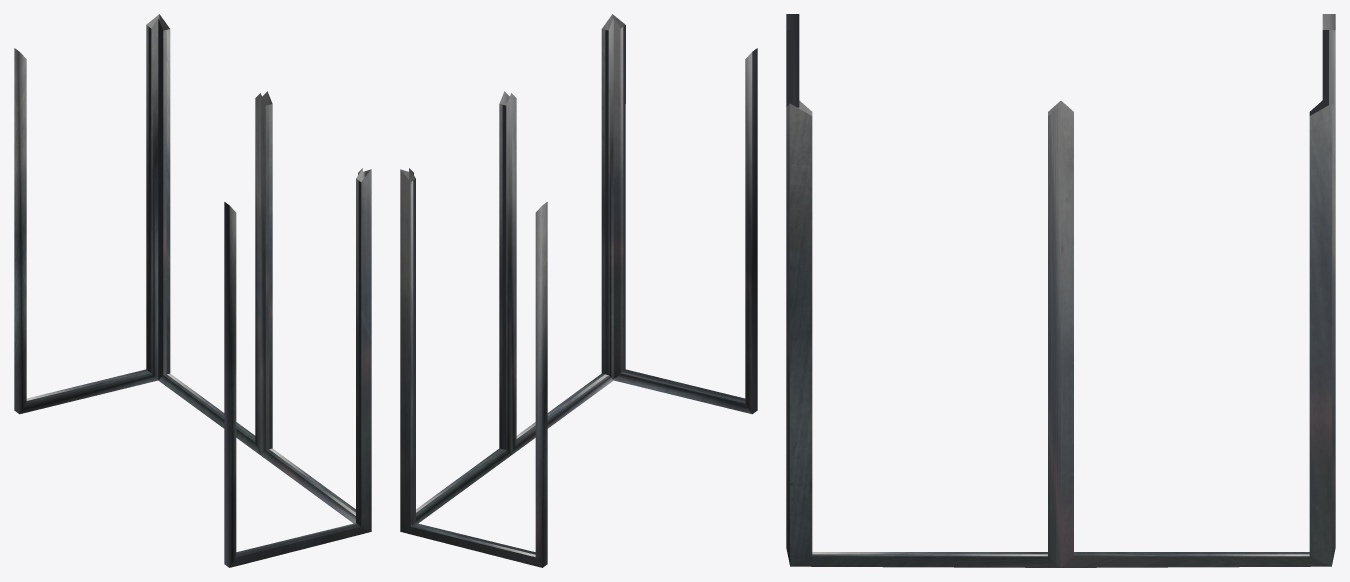
File: base_stand.obj
3 renders of one model, left to right at view 1: azimuth 30°, elevation 25°; view 2: azimuth 150°, elevation 25°; view 3: azimuth 270°, elevation 25°, orthographic. The views are drawn at different scales.
Visible parts, largest first — view 1: Base_Stand; view 2: Base_Stand; view 3: Base_Stand.
Boxes of the visible parts, x1,y1,x2,y2 form: Base_Stand: (14, 14, 371, 567); Base_Stand: (400, 14, 757, 567); Base_Stand: (786, 14, 1335, 567).
Size of the model in its own units: 1.46 by 3.47 by 3.73.
Materials: 1 (1 with a texture image).
